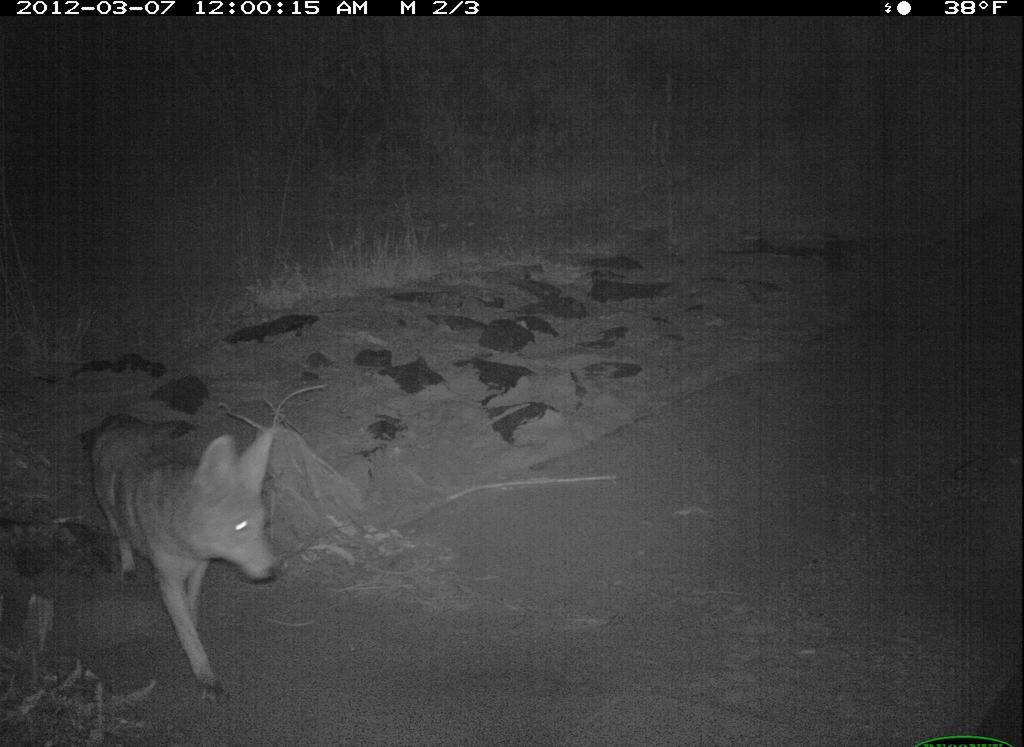coyote: (84, 408, 288, 707)
